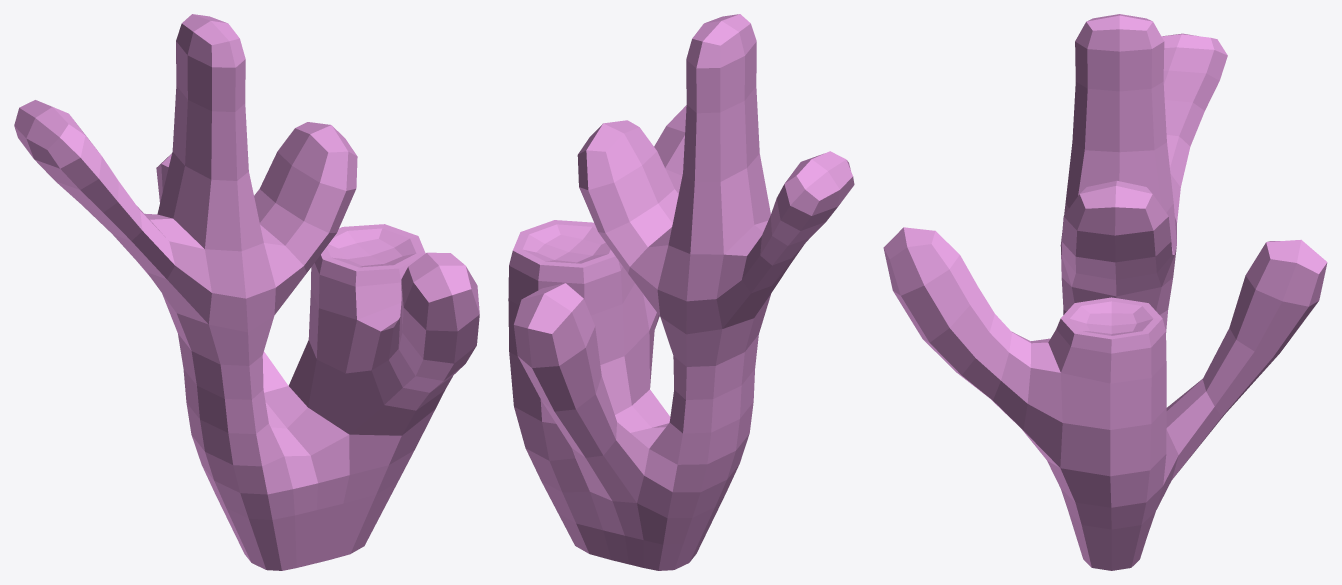
Rendered from coral_3.fbx.
The picture shows the model from 3 angles, left to right: view 1: azimuth 30°, elevation 25°; view 2: azimuth 150°, elevation 25°; view 3: azimuth 270°, elevation 25°; orthographic projection. The views are drawn at different scales.
Visible parts, largest first — view 1: Cube; view 2: Cube; view 3: Cube.
Part boxes in pixels (x1=…): Cube: x1=14, y1=14, x2=479, y2=570; Cube: x1=508, y1=14, x2=854, y2=570; Cube: x1=883, y1=14, x2=1327, y2=570.
Size of the model in its own units: 621 by 906 by 742.
